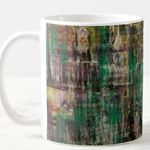cups: (1, 11, 148, 147)
